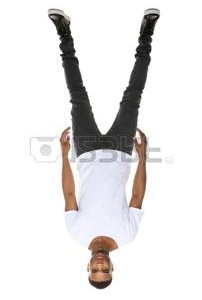arm: (62, 154, 81, 249), (129, 162, 146, 247)
chest: (81, 155, 130, 236)
face: (87, 256, 116, 289)
foot: (47, 7, 74, 35), (140, 9, 160, 33)
hand: (135, 128, 148, 160), (59, 127, 71, 153)
leg: (60, 37, 106, 136), (106, 37, 151, 134)
neck: (90, 237, 115, 255)
